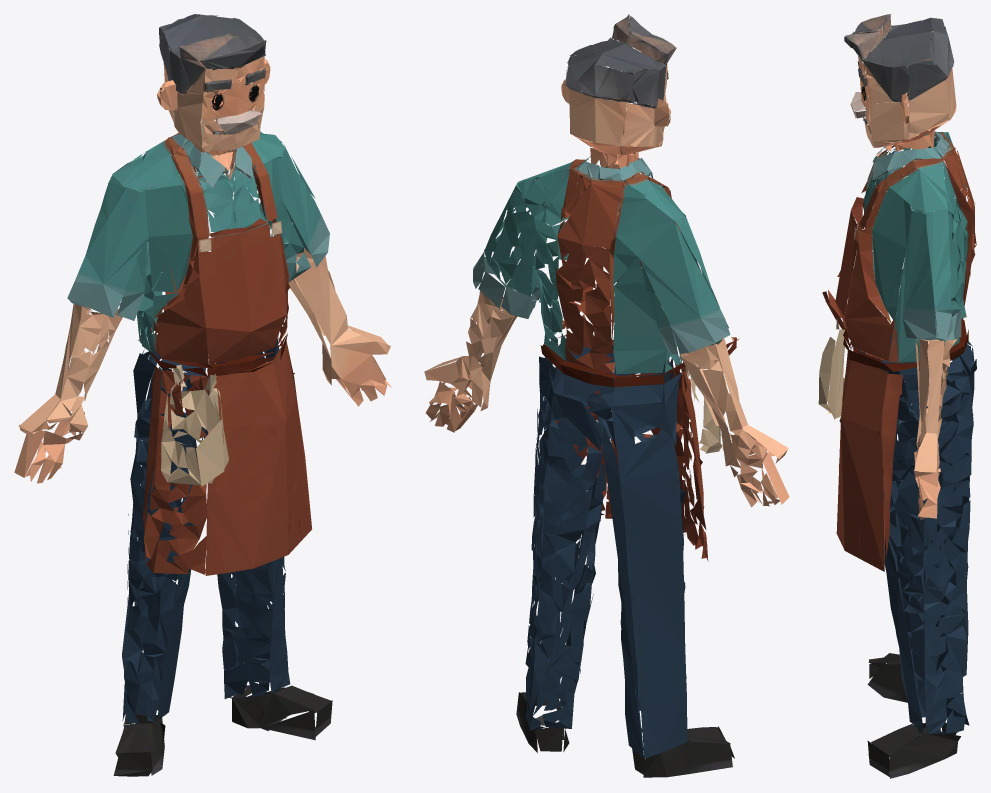
The model's file is habitant.glb.
3 renders of one model, left to right at view 1: azimuth 30°, elevation 25°; view 2: azimuth 150°, elevation 25°; view 3: azimuth 270°, elevation 25°, orthographic. The views are drawn at different scales.
Parts seen in each view (by area): view 1: world; view 2: world; view 3: world.
Part boxes in pixels (x1=…): world: x1=14, y1=14, x2=391, y2=776; world: x1=424, y1=14, x2=789, y2=777; world: x1=818, y1=14, x2=976, y2=778.
Size of the model in its own units: 0.5344 by 1 by 0.2058.
1 material, 1 textured.
